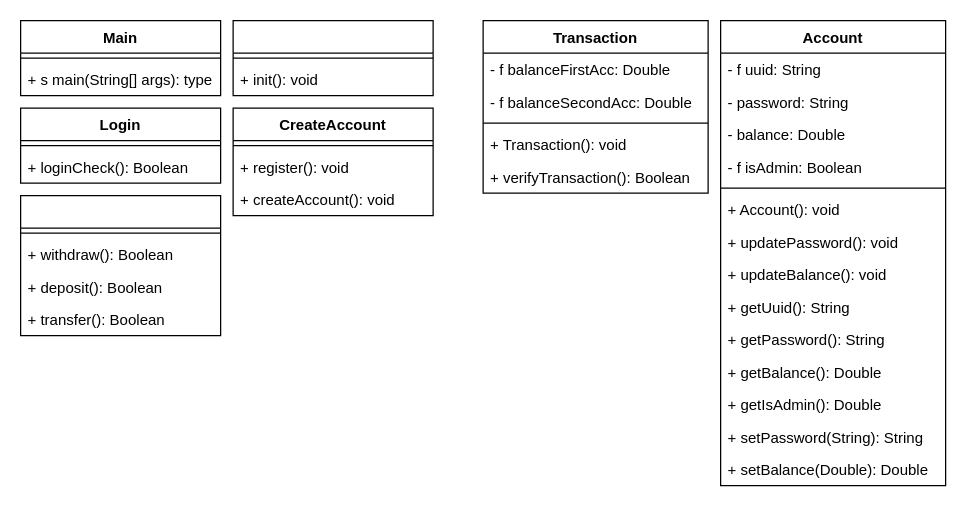
This 966x506 diagram has some shape labels left out. The shapes that lost their labels are listed below. From the top down, each one's box as (x1, y1, x2, y2) in pixels, then its label:
(232, 19, 433, 96): Cli
(19, 194, 221, 336): UserAction
